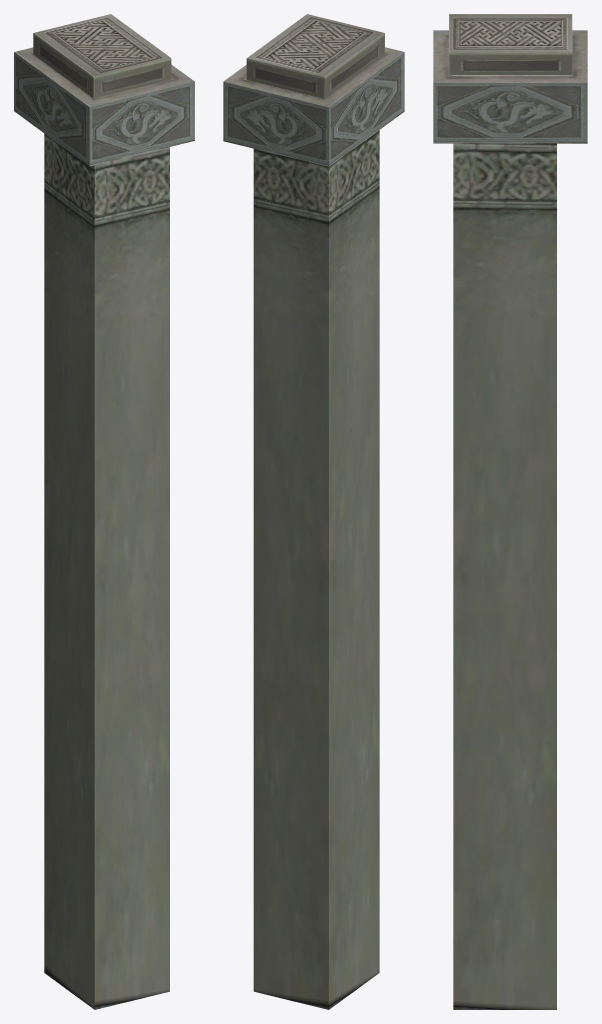
3 views of the same model, side by side, from view 1: azimuth 30°, elevation 25°; view 2: azimuth 150°, elevation 25°; view 3: azimuth 270°, elevation 25° (orthographic). The views are drawn at different scales.
Visible parts, largest first — view 1: z_jz_dm_dj_01; view 2: z_jz_dm_dj_01; view 3: z_jz_dm_dj_01.
Part boxes in pixels (left/top/right/bottom): z_jz_dm_dj_01: left=14, top=14, right=194, bottom=1009; z_jz_dm_dj_01: left=223, top=14, right=404, bottom=1009; z_jz_dm_dj_01: left=433, top=14, right=587, bottom=1009.
Bounding box in the file's own units: 74.99 × 636 × 93.1.
